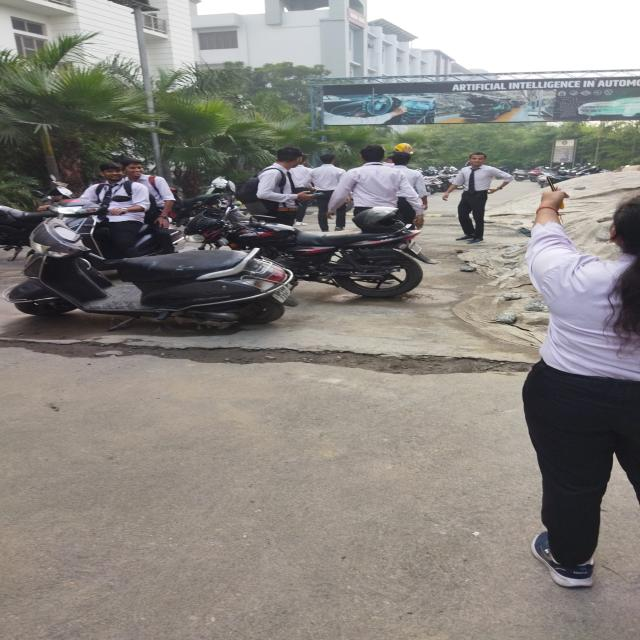unsafe: (515, 182, 640, 580), (77, 162, 146, 272), (335, 147, 419, 237), (236, 147, 317, 236), (444, 152, 513, 243), (123, 159, 177, 256), (315, 156, 350, 233), (391, 152, 426, 225), (293, 154, 315, 226)
